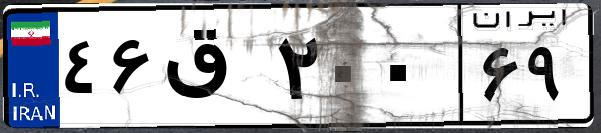0: (385, 28, 445, 110), (330, 28, 385, 110)
2: (270, 28, 330, 110)
4: (57, 26, 110, 100)
6: (475, 38, 525, 113), (110, 28, 158, 98)
9: (525, 38, 570, 115)
ق: (158, 20, 270, 120)
